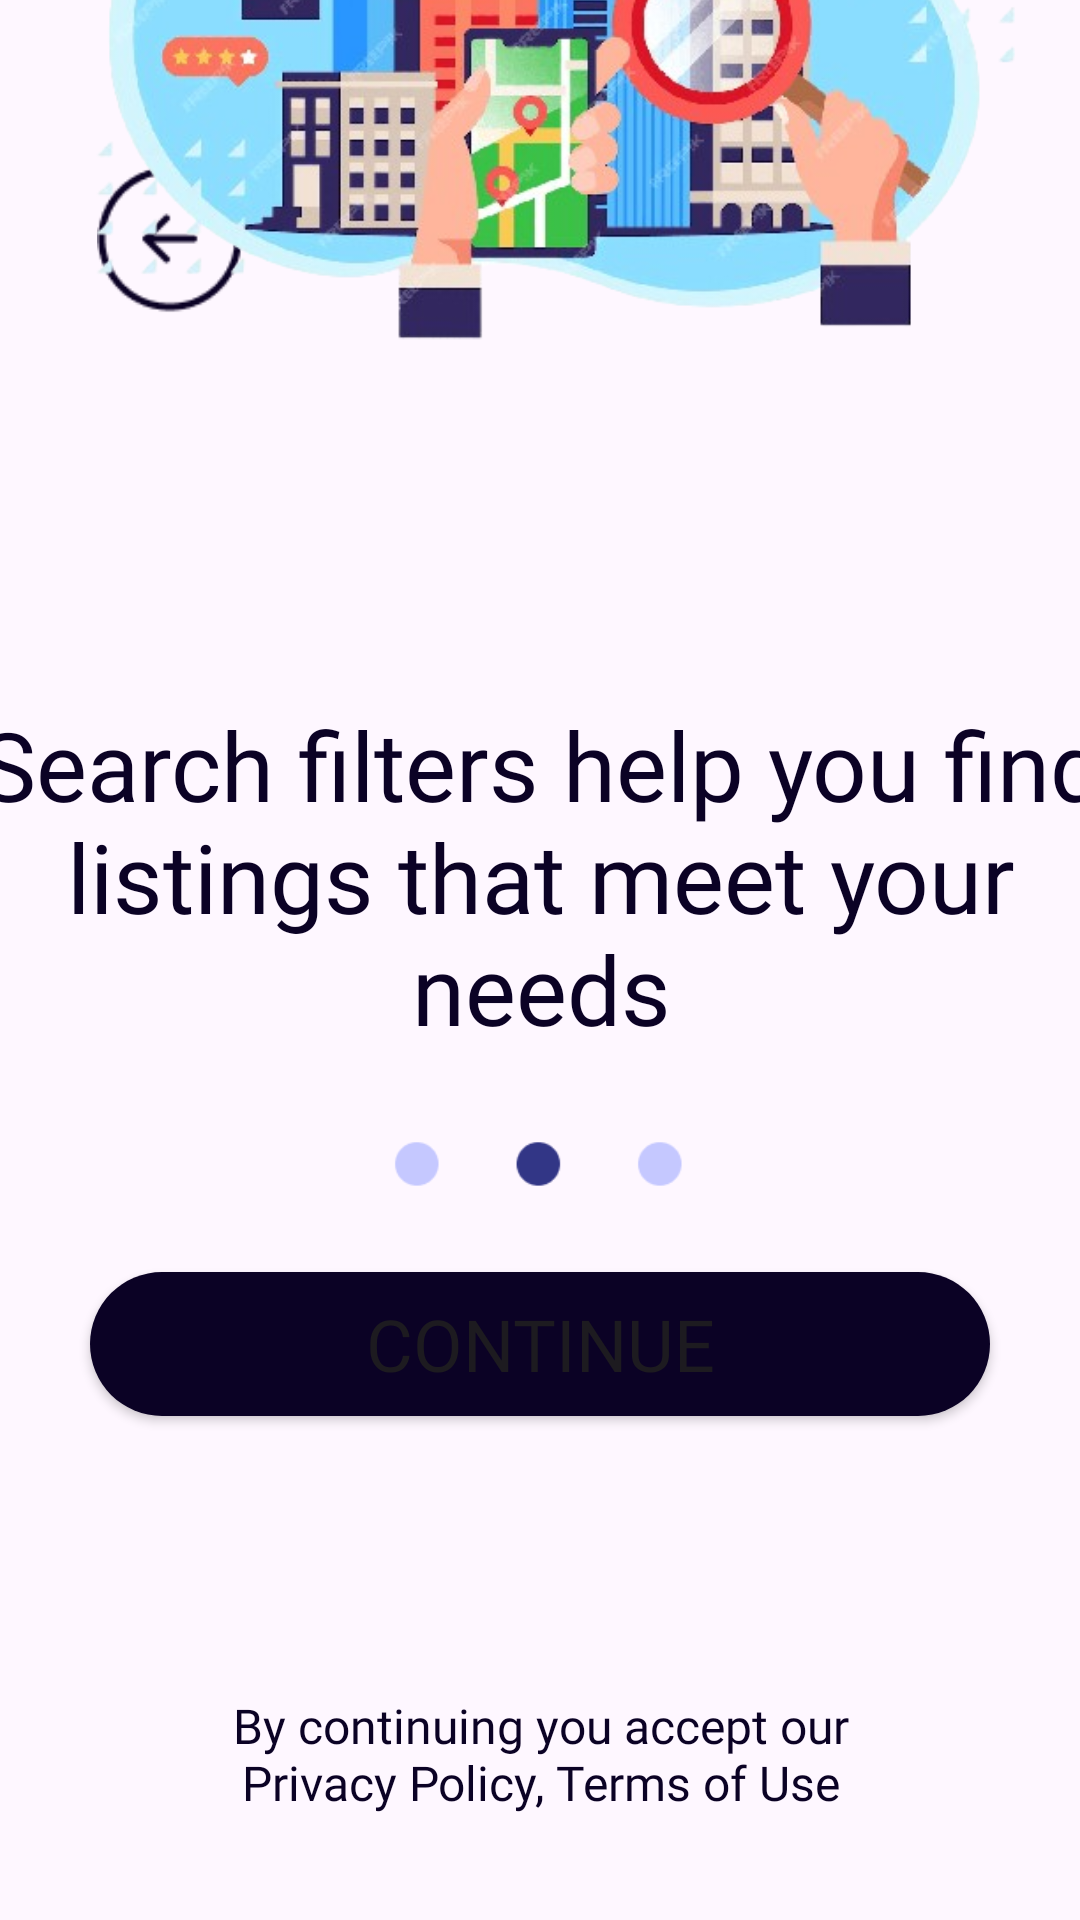

Named icons in this screenshot (1080w x 1920h) and their centers, point (x, y):
backarrow: point (171, 239)
